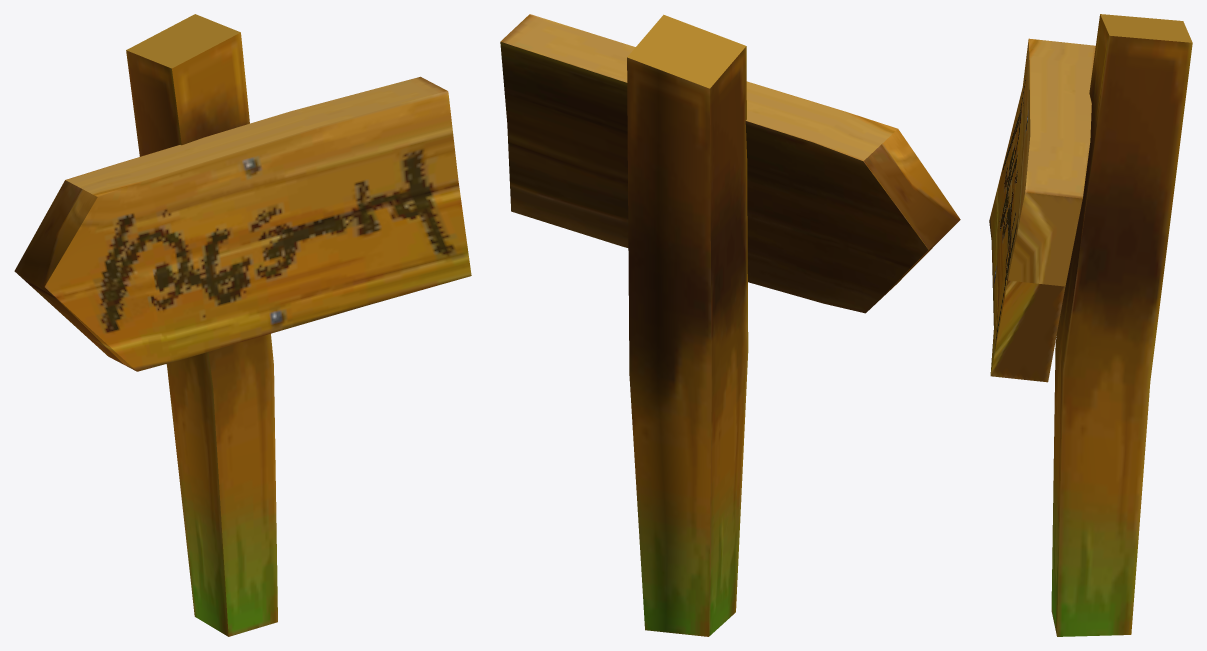
The model's file is Gimmick_yajirushi_L.fbx.
3 views of the same model, side by side, from view 1: azimuth 30°, elevation 25°; view 2: azimuth 150°, elevation 25°; view 3: azimuth 270°, elevation 25° (orthographic). The views are drawn at different scales.
Parts seen in each view (by area): view 1: Gimmick_yajirushi_L; view 2: Gimmick_yajirushi_L; view 3: Gimmick_yajirushi_L.
Boxes of the visible parts, <box> form: Gimmick_yajirushi_L: <box>14,14,471,636</box>; Gimmick_yajirushi_L: <box>500,14,960,636</box>; Gimmick_yajirushi_L: <box>989,14,1192,636</box>.
Size of the model in its own units: 0.5951 by 0.7939 by 0.2457.
